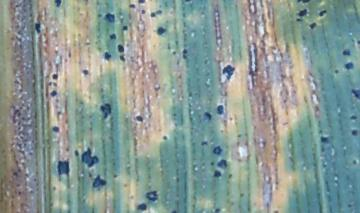tarspot: (79, 147, 98, 168), (57, 158, 69, 176), (92, 175, 107, 189), (145, 189, 159, 203), (222, 64, 235, 79), (99, 104, 112, 118), (104, 12, 115, 23), (155, 26, 167, 36), (296, 8, 308, 18), (319, 133, 329, 145), (212, 145, 223, 155), (216, 103, 225, 115), (217, 159, 227, 169), (341, 48, 352, 57), (137, 203, 147, 212), (103, 51, 112, 61), (203, 110, 212, 120), (345, 61, 354, 71), (351, 88, 360, 98), (51, 125, 61, 133), (34, 22, 41, 33), (117, 43, 124, 54), (182, 49, 189, 60), (49, 90, 58, 98), (319, 9, 327, 18), (308, 22, 317, 30), (134, 115, 142, 123), (296, 1, 312, 5), (51, 72, 58, 81), (127, 2, 136, 9), (213, 170, 222, 177), (349, 114, 358, 121), (54, 1, 62, 8), (81, 68, 89, 75), (73, 149, 80, 157), (109, 33, 117, 40), (352, 129, 359, 137), (352, 159, 359, 167), (67, 48, 72, 59), (119, 55, 126, 62), (333, 68, 340, 75), (214, 207, 222, 213), (200, 140, 208, 146), (140, 9, 147, 15), (150, 12, 156, 19), (156, 8, 162, 15), (227, 172, 234, 178), (138, 1, 146, 6), (162, 135, 168, 141), (209, 161, 215, 167), (272, 209, 281, 213), (112, 172, 118, 178), (97, 12, 103, 18), (295, 18, 302, 23), (122, 26, 128, 31), (172, 51, 177, 56), (184, 1, 192, 4), (357, 39, 360, 45), (172, 210, 177, 213)
